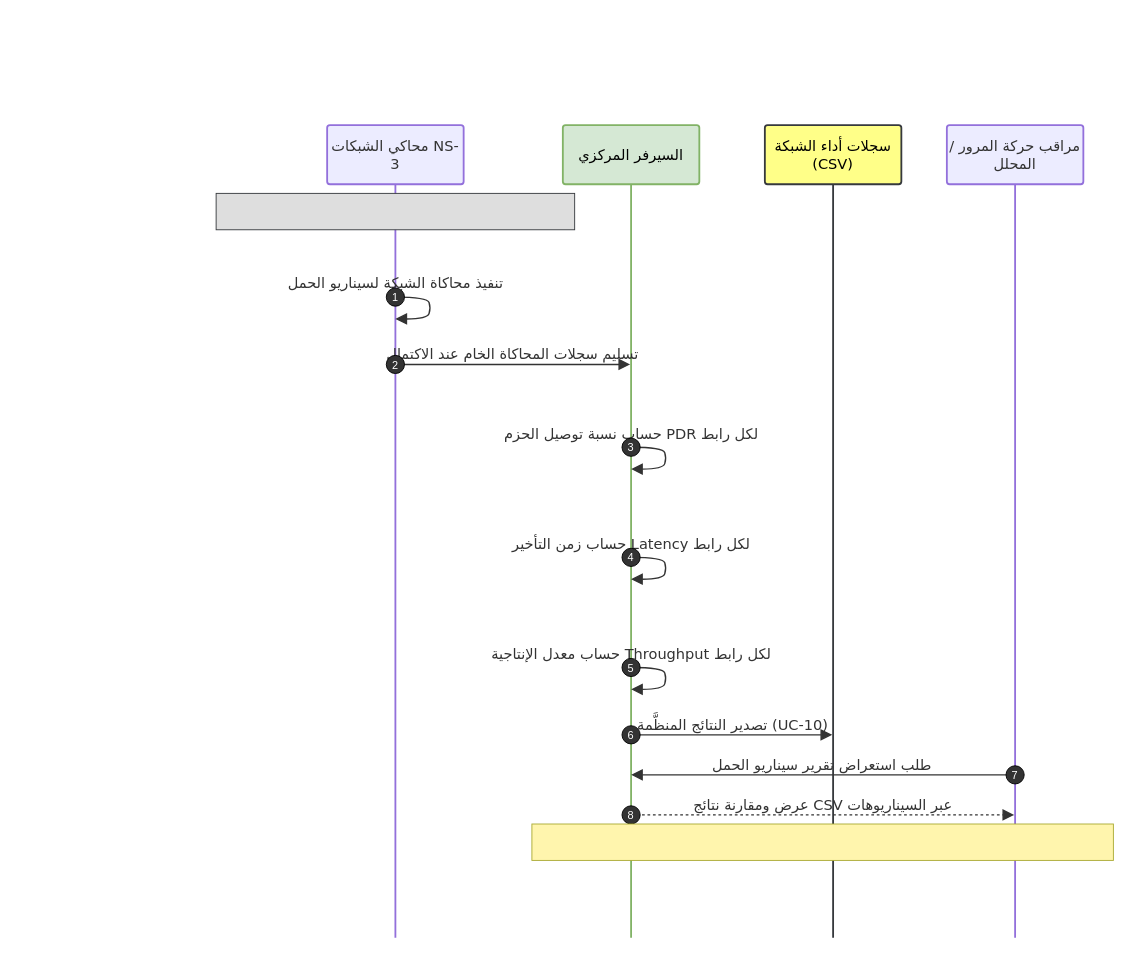
The diagram is 1129 pixels wide and 954 high, and some of its shapes have lost their labels. Here are the shapes that lost their labels. From the top down, the centre of each, then its label:
At pixel 395 211: "تشغيل سيناريو حمل معيَّن (حتى 30 وحدة RSU )".
At pixel 822 841: "مسار غير دوري يُفعَّل فقط عند اكتمال جلسة NS3 كاملة".
